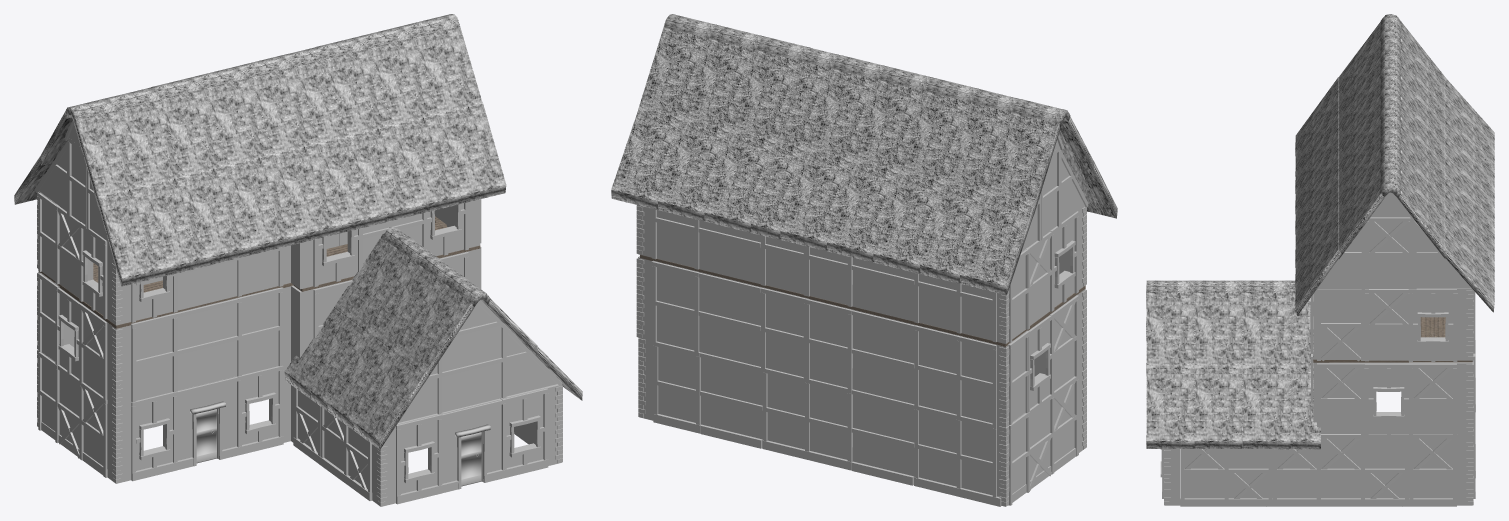
File: house_6.fbx
3 views of the same model, side by side, from view 1: azimuth 30°, elevation 25°; view 2: azimuth 150°, elevation 25°; view 3: azimuth 270°, elevation 25° (orthographic). The views are drawn at different scales.
Visible parts, largest first — view 1: techo_paja_1x3.038, pared_puerta_1.005, piso_3x4.010; view 2: pared_puerta_1.005, techo_paja_1x3.038, piso_3x4.010; view 3: techo_paja_1x3.038, pared_puerta_1.005, piso_3x4.010.
Part boxes in pixels (x1=…): techo_paja_1x3.038: x1=14, y1=14, x2=582, y2=449; pared_puerta_1.005: x1=34, y1=120, x2=562, y2=506; piso_3x4.010: x1=38, y1=216, x2=480, y2=328; pared_puerta_1.005: x1=636, y1=134, x2=1088, y2=506; techo_paja_1x3.038: x1=611, y1=14, x2=1117, y2=295; piso_3x4.010: x1=640, y1=255, x2=1085, y2=346; techo_paja_1x3.038: x1=1146, y1=14, x2=1494, y2=449; pared_puerta_1.005: x1=1160, y1=192, x2=1475, y2=506; piso_3x4.010: x1=1313, y1=317, x2=1472, y2=362.
Size of the model in its own units: 2545 by 2246 by 2170.
